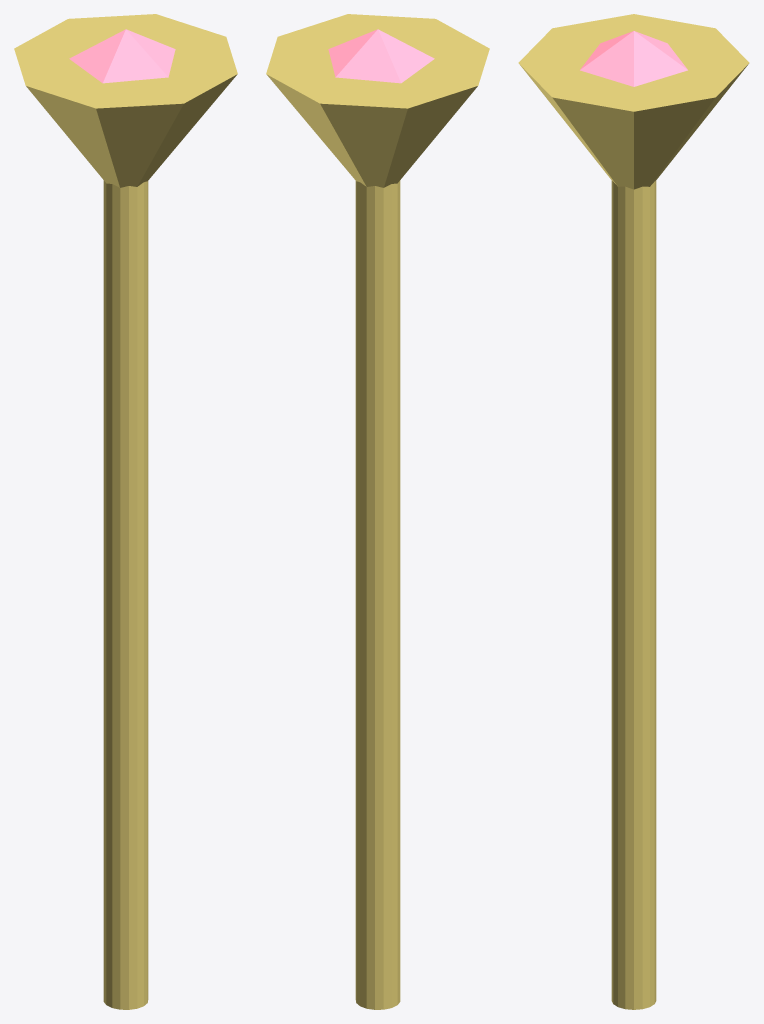
Rendered from lord_scepter.glb.
3 renders of one model, left to right at view 1: azimuth 30°, elevation 25°; view 2: azimuth 150°, elevation 25°; view 3: azimuth 270°, elevation 25°, orthographic.
Visible parts, largest first — view 1: Cylinder, Cone, Icosphere; view 2: Cylinder, Cone, Icosphere; view 3: Cylinder, Cone, Icosphere.
Boxes of the visible parts, bbox=[...] form: Cylinder: bbox=[103, 180, 148, 1009]; Cone: bbox=[14, 14, 237, 187]; Icosphere: bbox=[69, 29, 175, 83]; Cylinder: bbox=[355, 180, 400, 1009]; Cone: bbox=[266, 14, 489, 187]; Icosphere: bbox=[328, 29, 434, 83]; Cylinder: bbox=[611, 180, 656, 1009]; Cone: bbox=[518, 14, 749, 189]; Icosphere: bbox=[580, 31, 687, 86].
Bounding box in the file's own units: 0.36 × 1.66 × 0.36.
